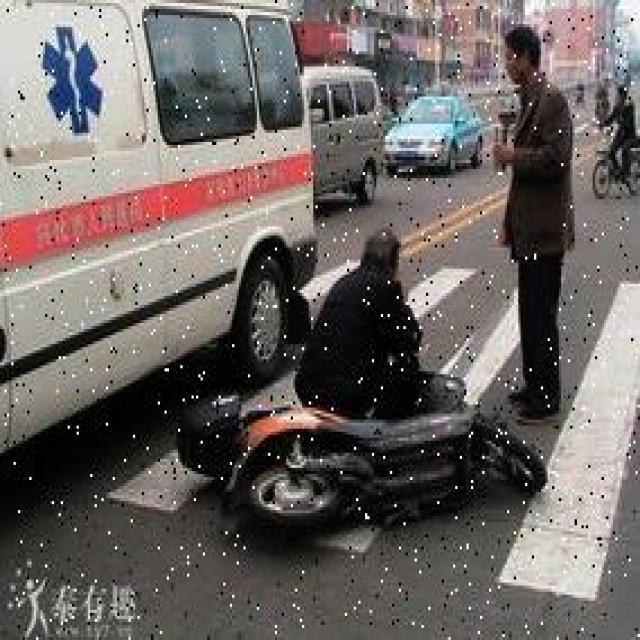fall: (288, 230, 435, 404)
